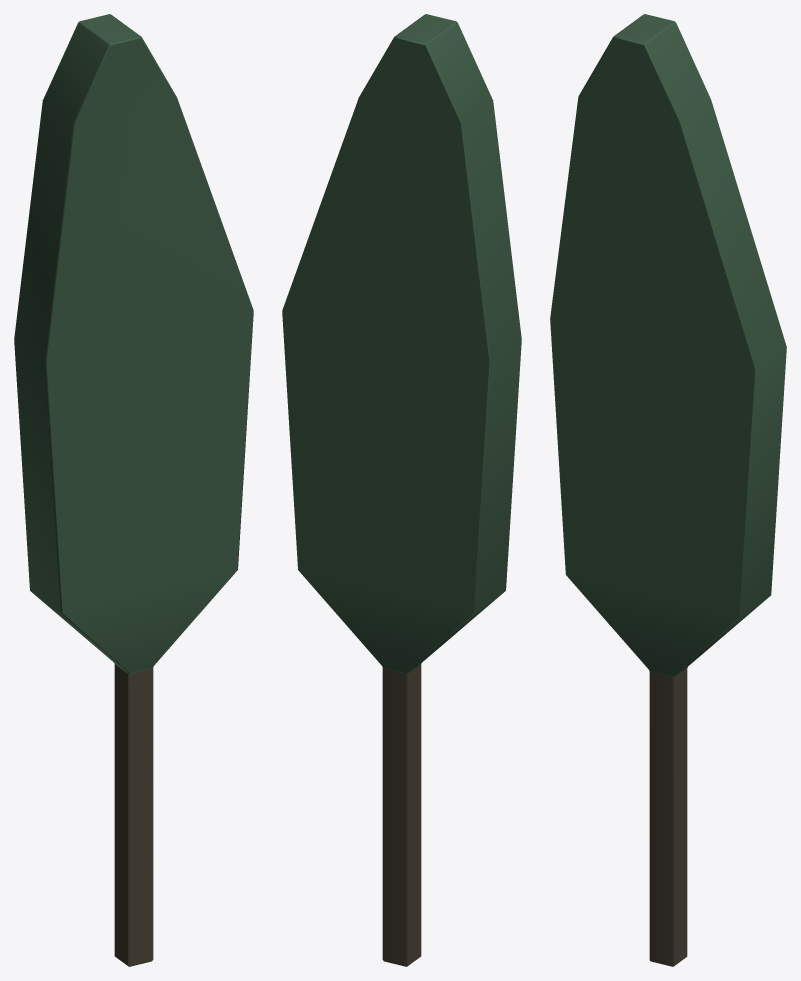
Rendered from Tree 1.fbx.
3 renders of one model, left to right at view 1: azimuth 30°, elevation 25°; view 2: azimuth 150°, elevation 25°; view 3: azimuth 330°, elevation 25°, orthographic.
Visible parts, largest first — view 1: pCube9; view 2: pCube9; view 3: pCube9.
Boxes of the visible parts, x1,y1,x2,y2 form: pCube9: (14, 14, 253, 966); pCube9: (282, 14, 521, 966); pCube9: (550, 14, 786, 966).
Bounding box in the file's own units: 1.19 × 5.07 × 0.3136.
